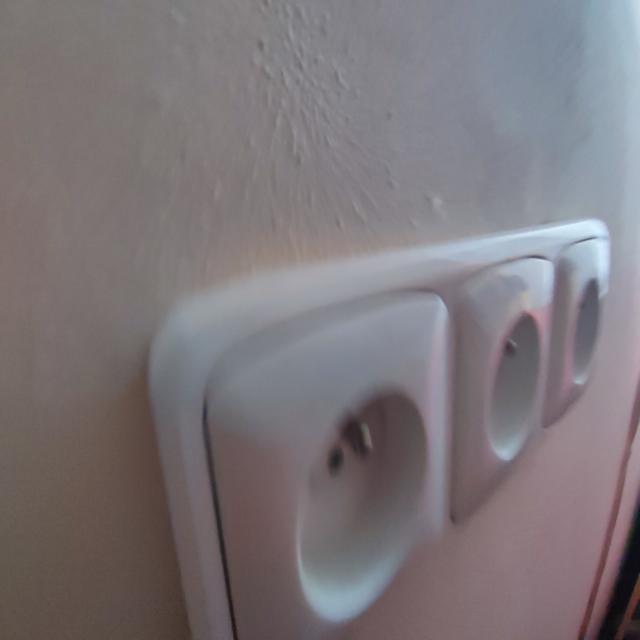house plug: (253, 356, 434, 640), (475, 304, 544, 493)
